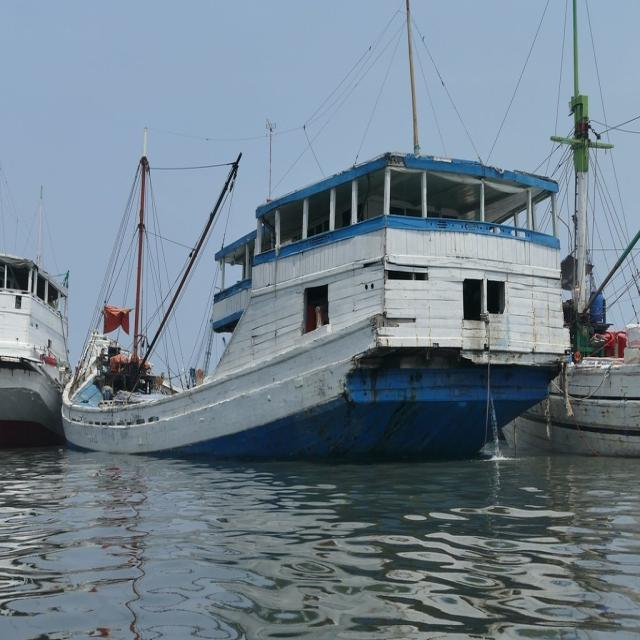boat: (56, 148, 556, 462)
